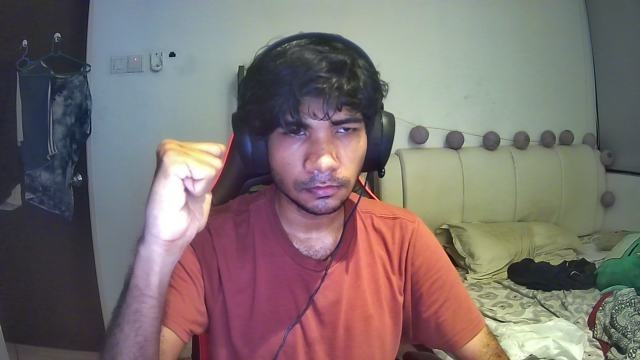Goodbye: (139, 138, 230, 243)
